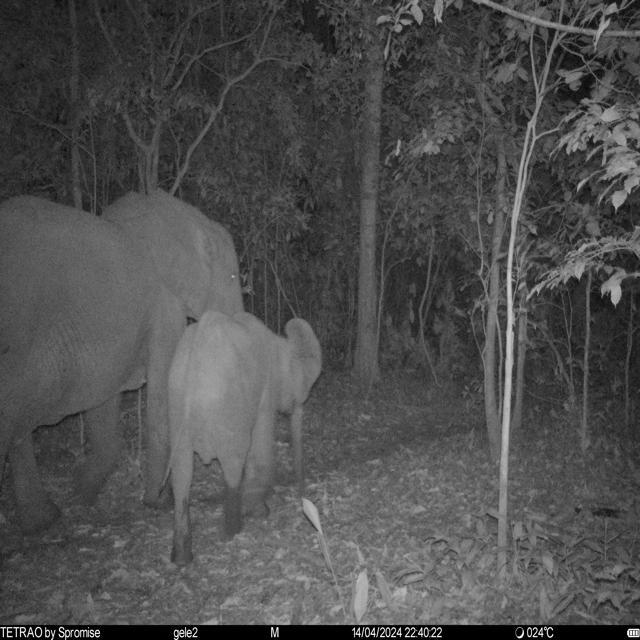calf: (159, 309, 328, 565)
ear: (284, 318, 324, 408)
elephant: (0, 188, 245, 537)
